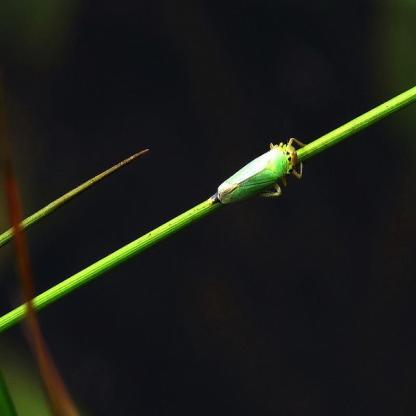Green-Leafhopper: (214, 135, 312, 209)
